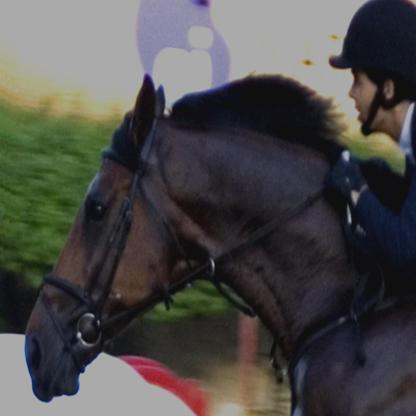Helmet: (339, 6, 411, 128)
